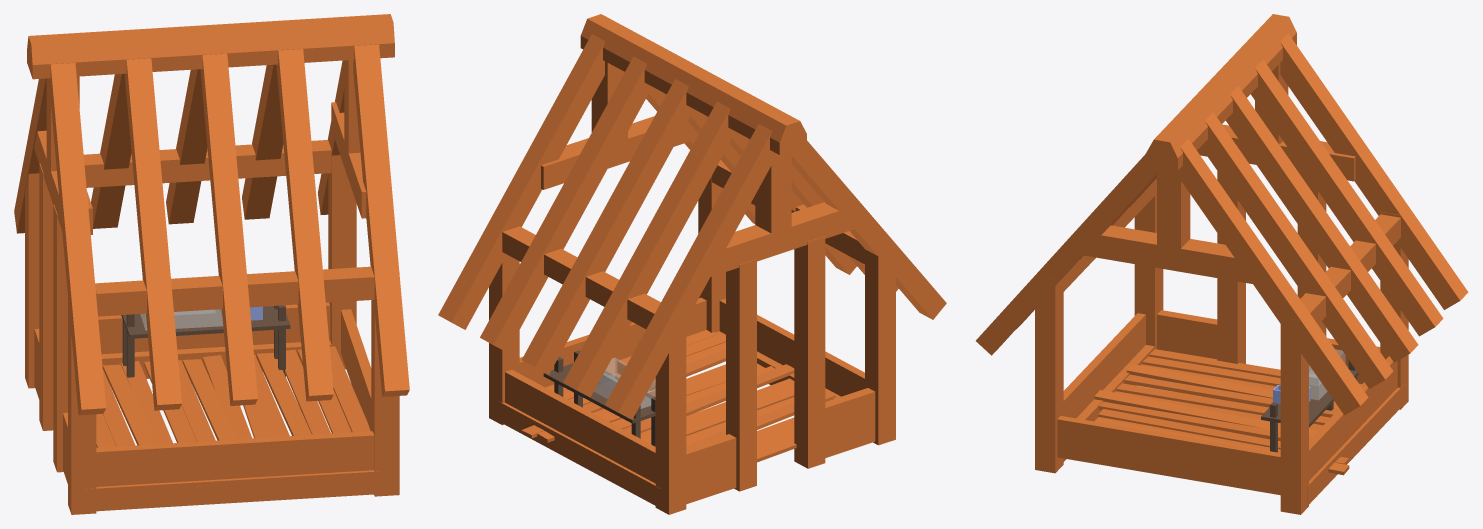
File: Modelado_Invernadero_001.glb
3 views of the same model, side by side, from view 1: azimuth 30°, elevation 25°; view 2: azimuth 150°, elevation 25°; view 3: azimuth 270°, elevation 25° (orthographic). The views are drawn at different scales.
Visible parts, largest first — view 1: Invernadero, Invenadero_001; view 2: Invernadero, Invenadero_001; view 3: Invernadero, Invenadero_001.
Part boxes in pixels (bbox=[...]): Invernadero: bbox=[14, 14, 409, 514]; Invenadero_001: bbox=[96, 306, 370, 488]; Invernadero: bbox=[438, 14, 946, 514]; Invenadero_001: bbox=[521, 330, 835, 462]; Invernadero: bbox=[976, 14, 1468, 514]; Invenadero_001: bbox=[1094, 349, 1361, 475].
Bounding box in the file's own units: 27.48 × 25.53 × 31.98.
Materials: 4 (1 with a texture image).
